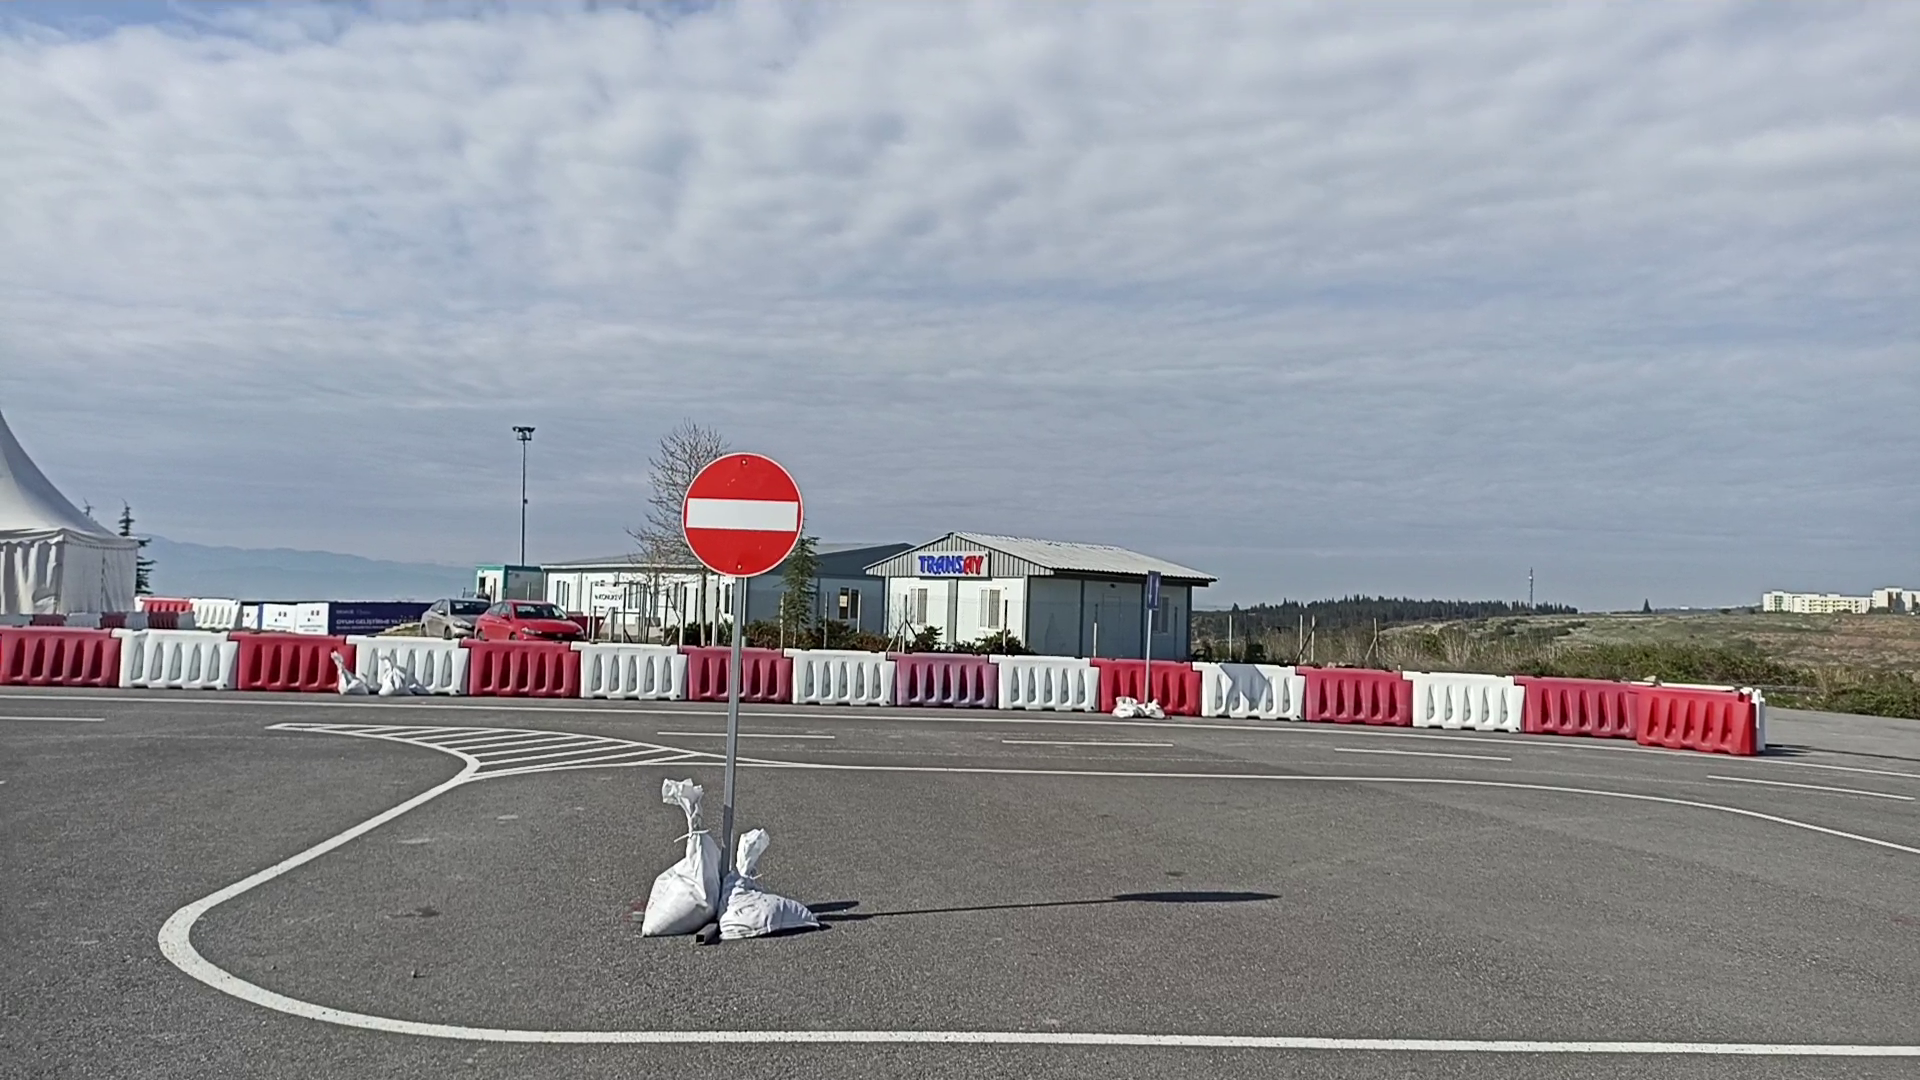noentryway: (678, 448, 808, 582)
